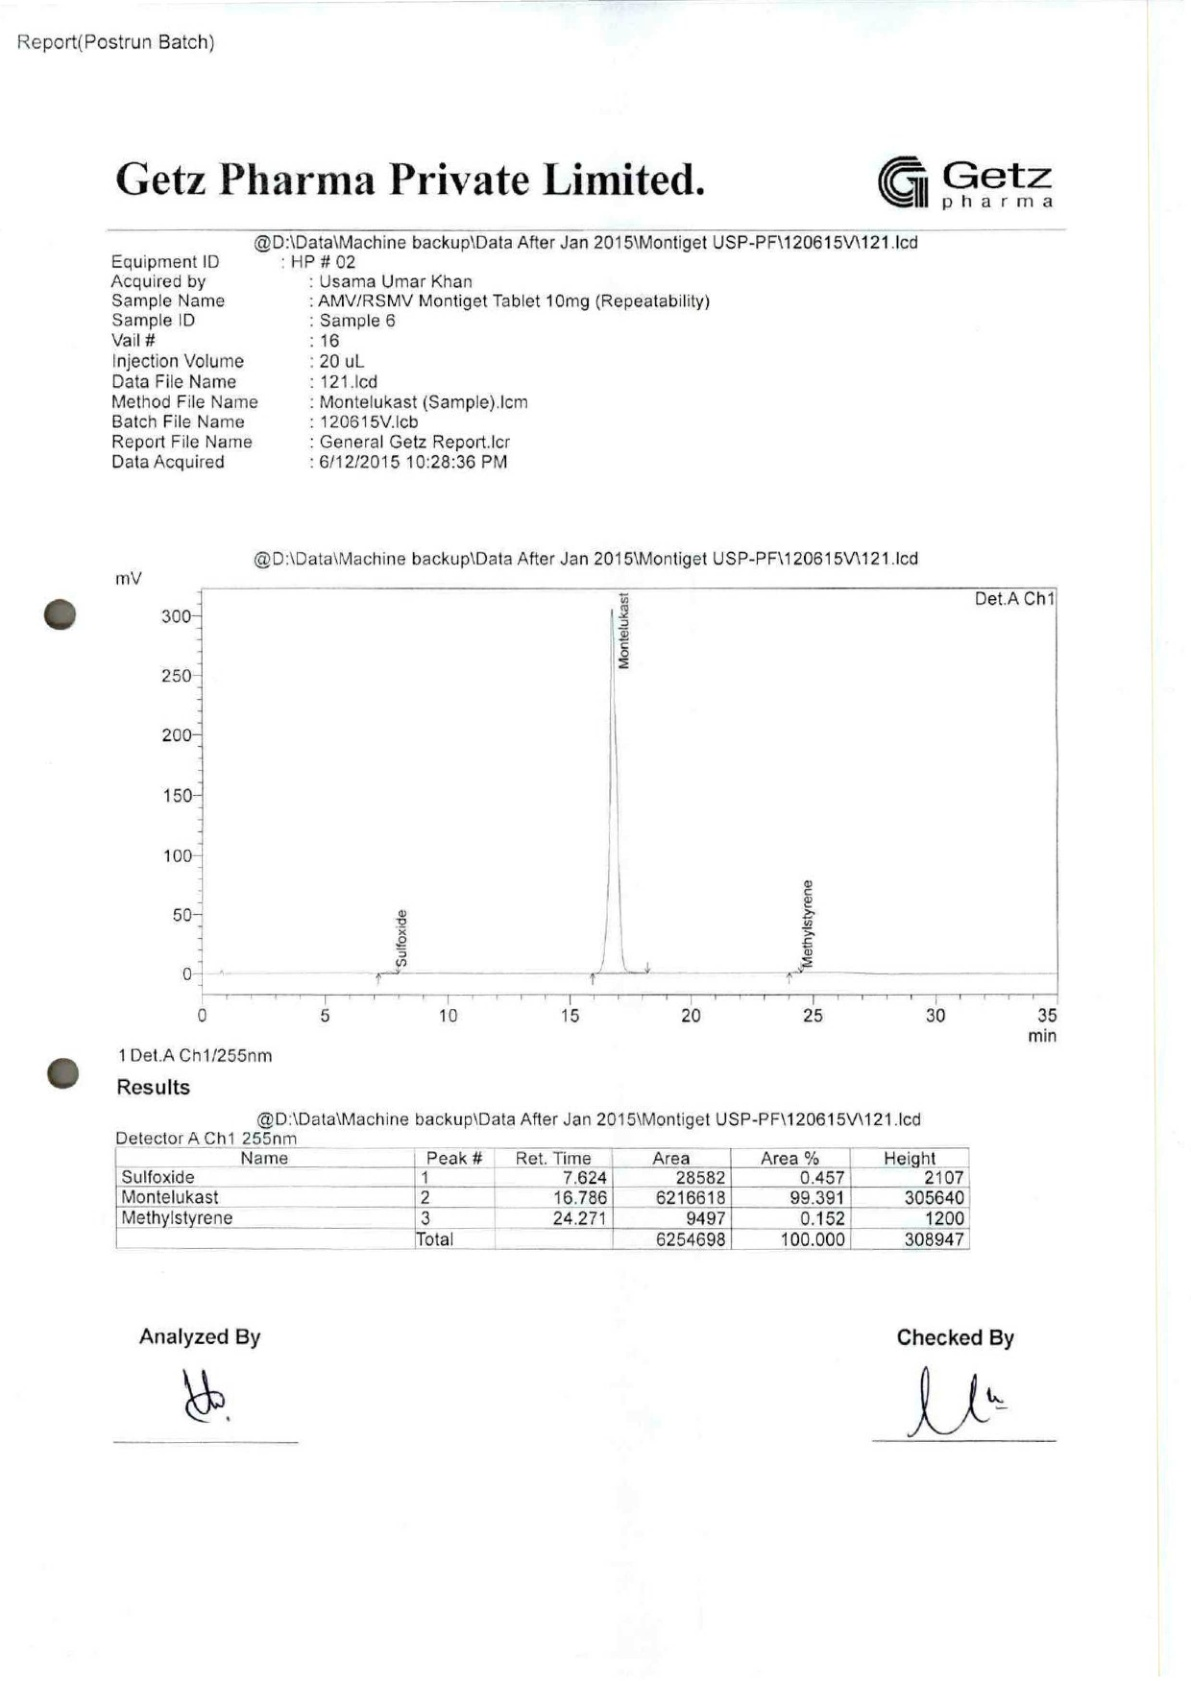full_lined: (112, 1142, 974, 1254)
nolines: (108, 251, 712, 474)
